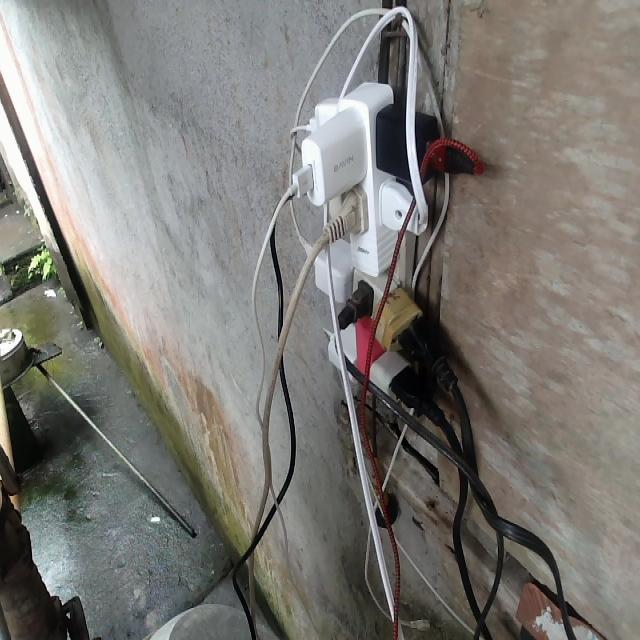-: (290, 81, 437, 407)
